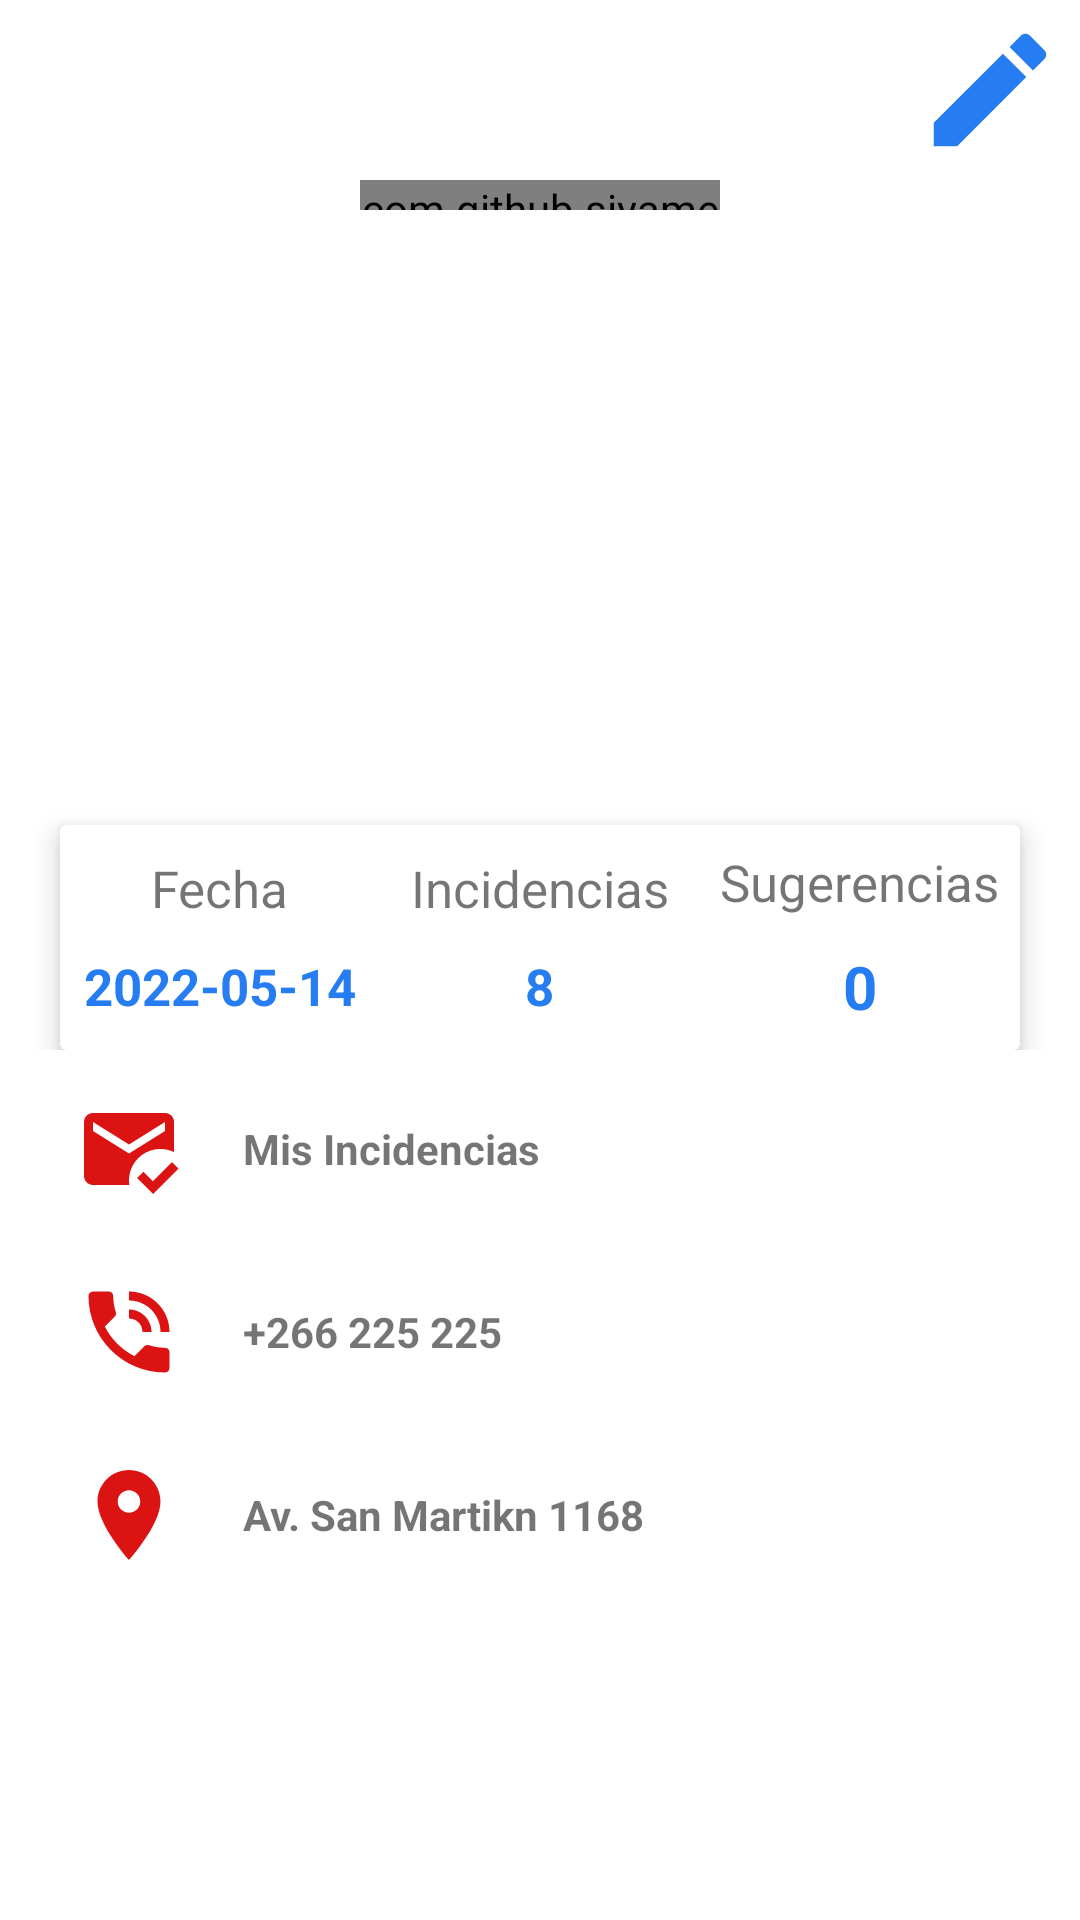

Icons on this 1080 x 1920 Android screen, each with its box as Rect(x1, y1, x2, y2):
edit: Rect(933, 33, 1047, 147)
location: Rect(97, 1470, 161, 1560)
phone: Rect(88, 1291, 170, 1373)
